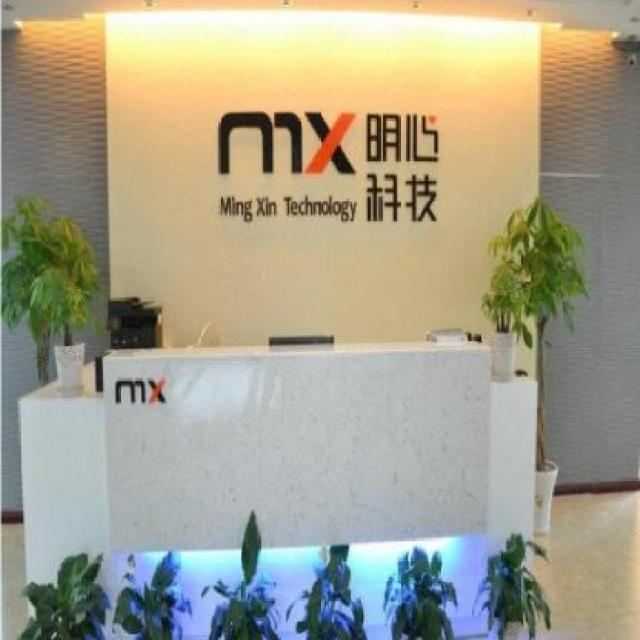frontdesk: (14, 331, 544, 610)
